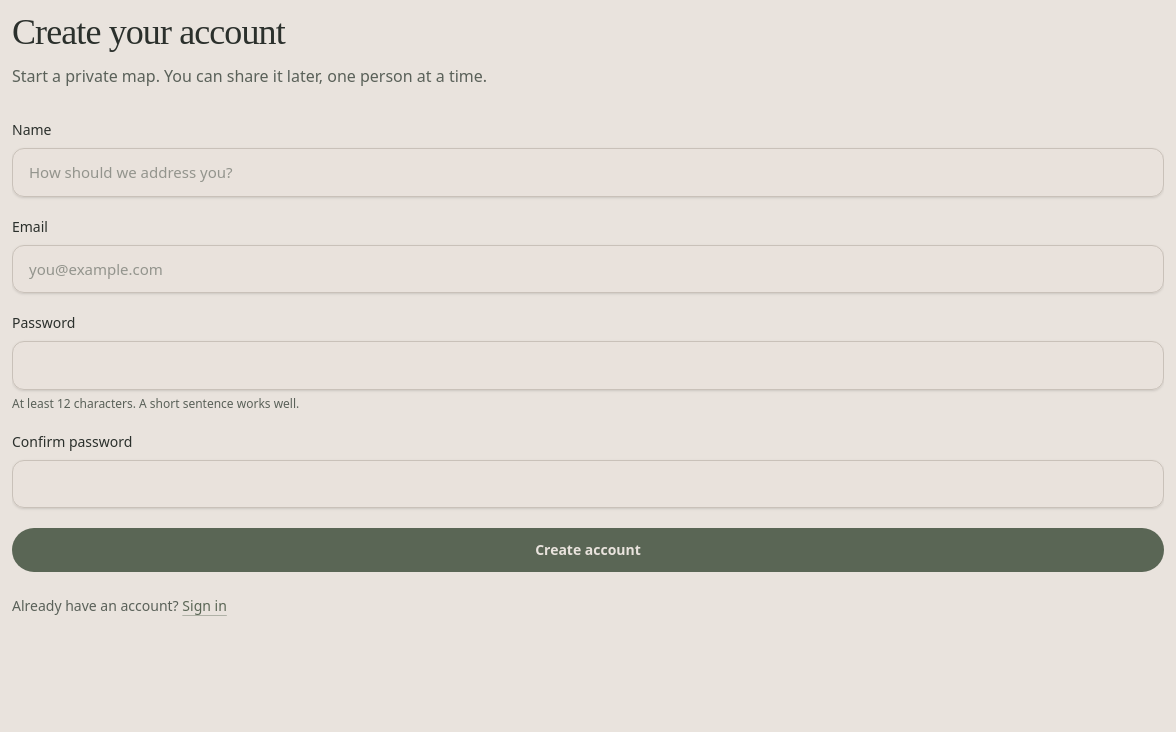
Test: SignUpForm › stays on the form when sign-up fails
Step 1. Type "Ada" into the field labelled "Name" → (588, 172), box [12,148,1164,196]
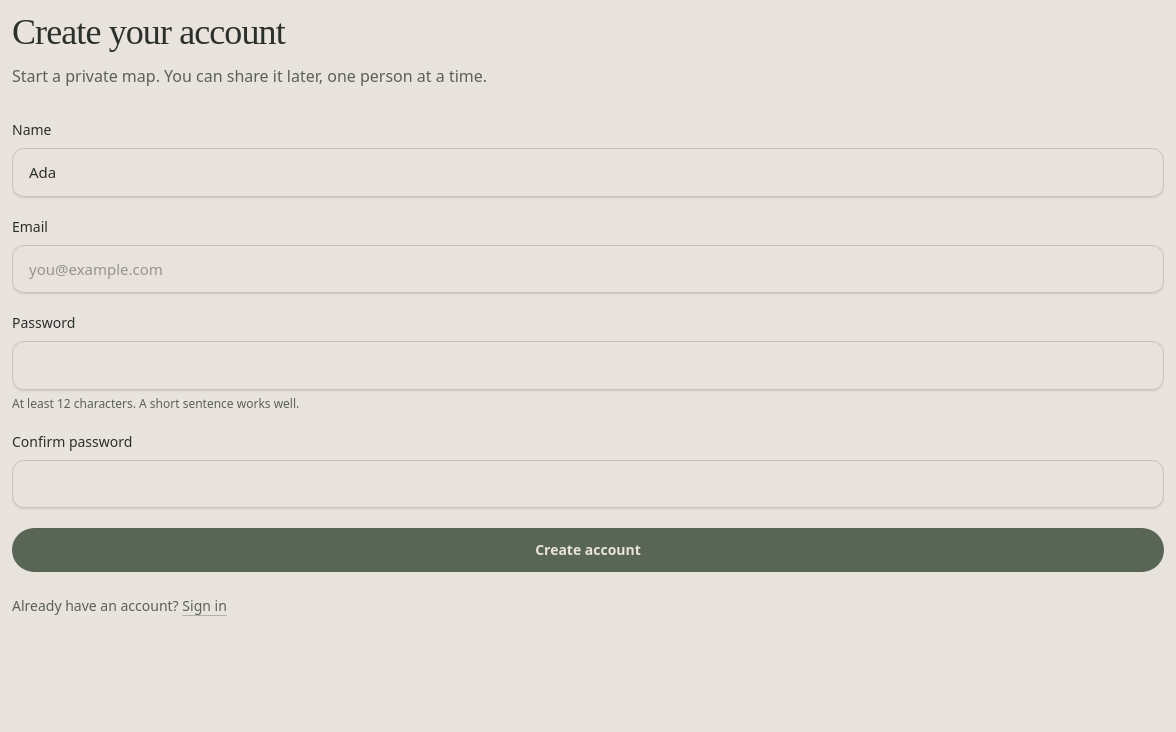
Step 2. Type "ada@example.com" into the field labelled "Email" → (588, 269), box [12,244,1164,293]
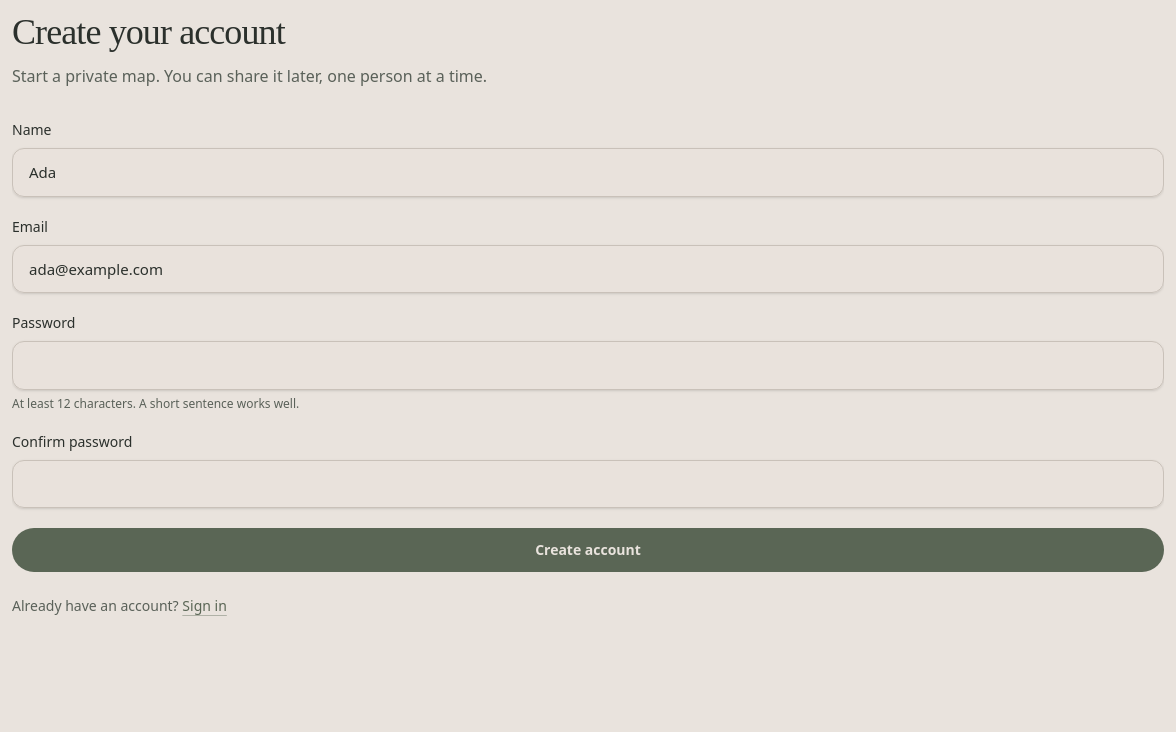
Step 3. Type "a long passphrase here" into the password field labelled "Password" → (588, 365), box [12,341,1164,390]
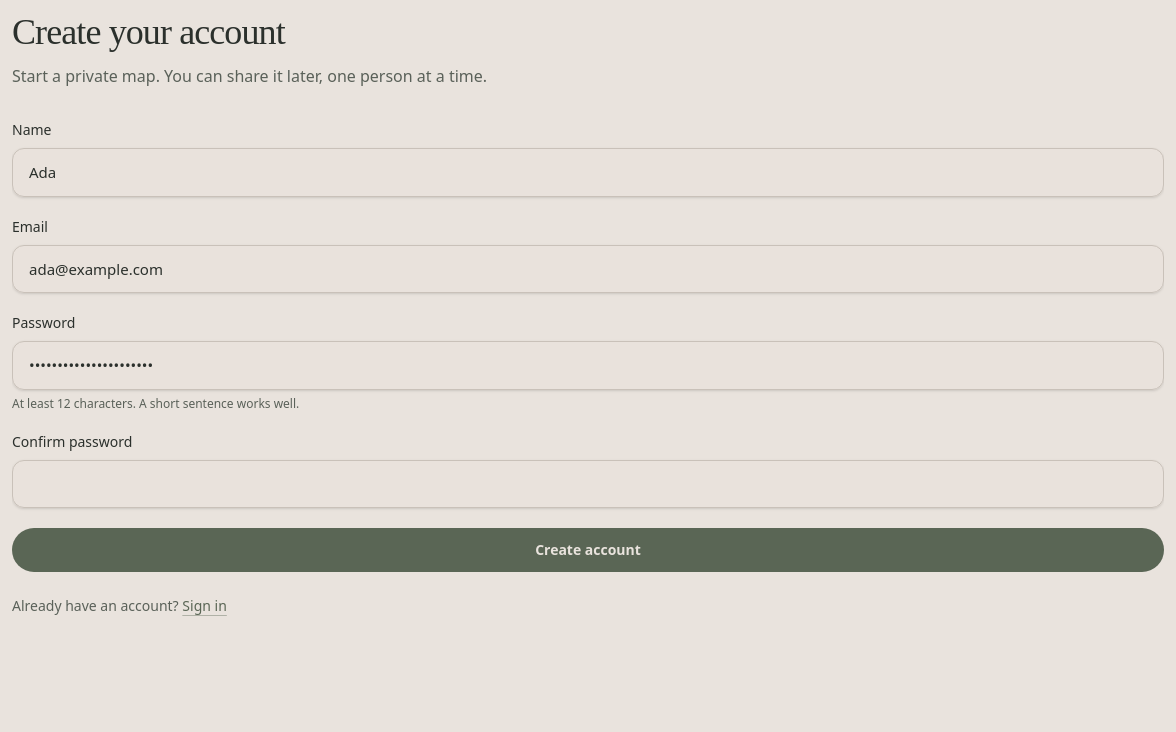
Step 4. Type "a long passphrase here" into the password field labelled "Confirm password" → (588, 484), box [12,460,1164,508]
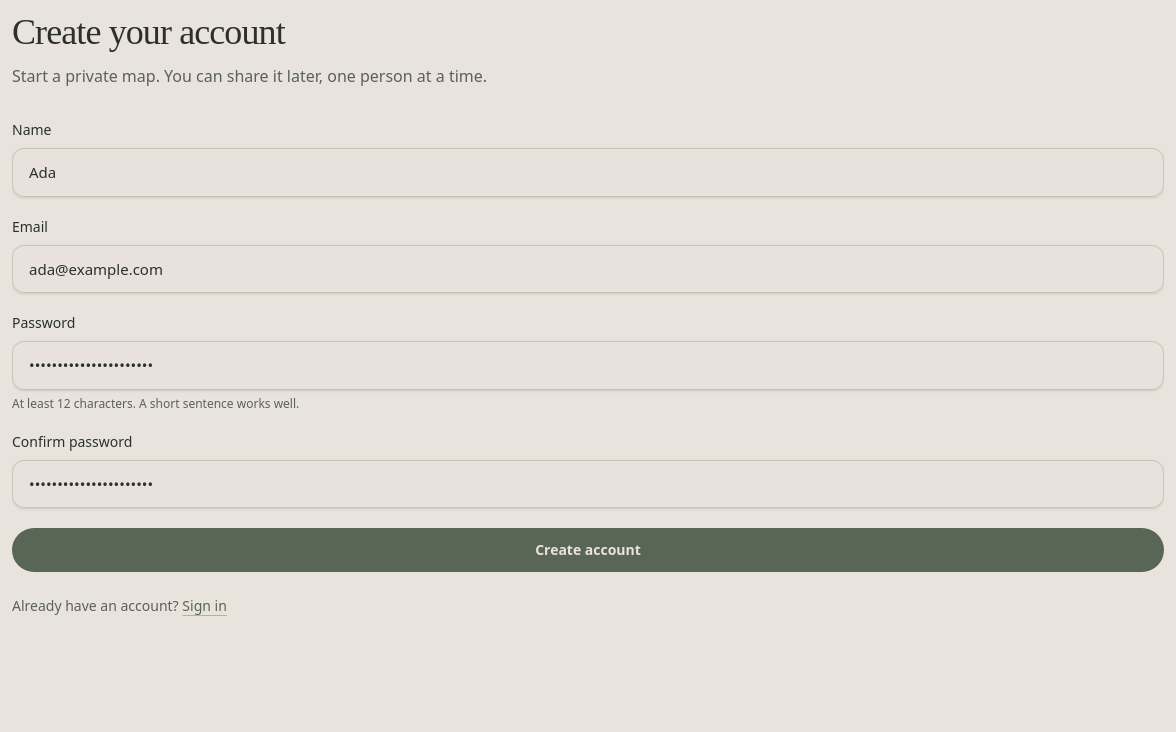
Step 5. Click the button "Create account" → (588, 550), box [12,528,1164,572]
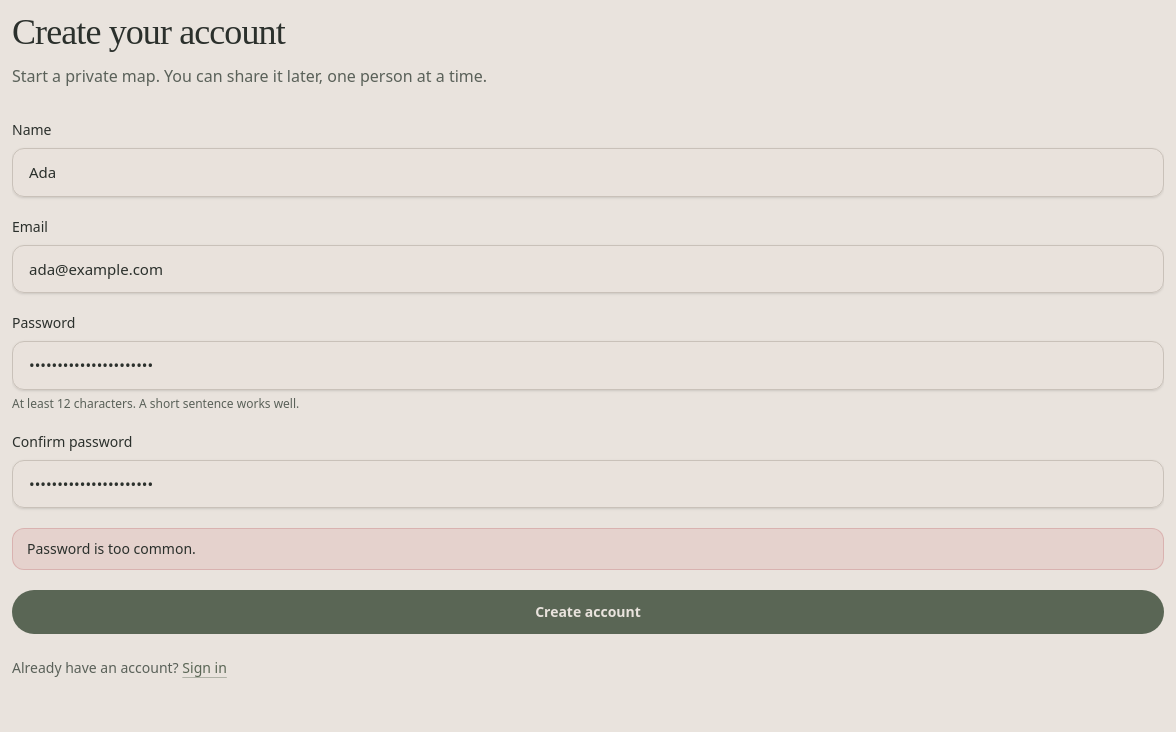
Now the message reads "Password is too common.", box [27,539,196,558]
